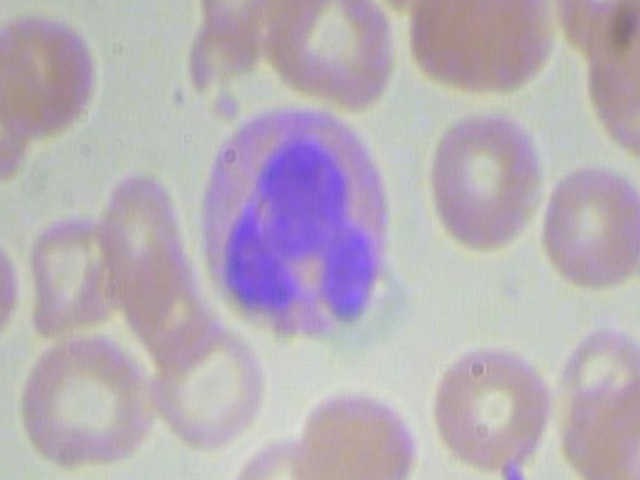RBC: (13, 327, 154, 474), (423, 109, 547, 260), (143, 305, 267, 456), (434, 331, 557, 480), (241, 0, 398, 111), (531, 153, 640, 303), (400, 0, 557, 95), (0, 4, 98, 142), (295, 373, 418, 480), (221, 414, 344, 480), (567, 369, 640, 480), (546, 0, 640, 69), (4, 474, 151, 480)
WBC: (190, 101, 400, 351)
